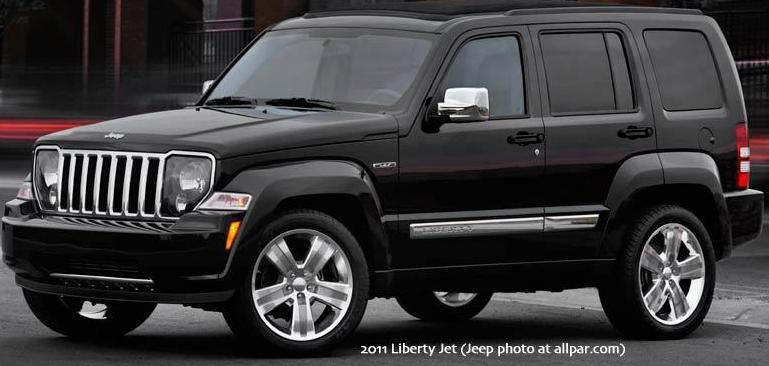front_view: (5, 133, 247, 298)
headlight: (160, 145, 251, 235)
side_glass: (422, 15, 732, 138)
